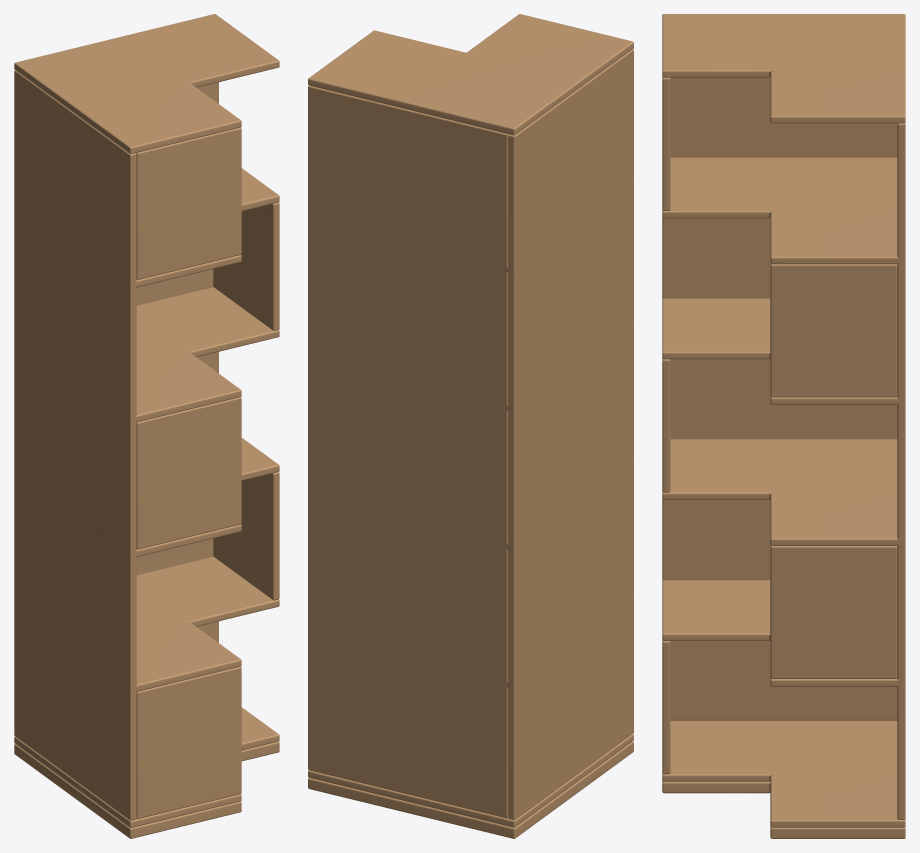
The model's file is corner-bookcase-580-v1.glb.
3 renders of one model, left to right at view 1: azimuth 30°, elevation 25°; view 2: azimuth 150°, elevation 25°; view 3: azimuth 270°, elevation 25°, orthographic. The views are drawn at different scales.
Visible parts, largest first — view 1: back-x, shelf-5, end-2, end-4, end-0, shelf-1, shelf-3, end-1, end-3, back-z, base, shelf-0 (+2 smaller); view 2: back-z, back-x, shelf-5, base, shelf-0, shelf-4; view 3: back-x, shelf-5, shelf-0, shelf-4, shelf-2, end-3, end-1, shelf-3, shelf-1, back-z, base, end-2 (+2 smaller).
Boxes of the visible parts, x1=… form: back-x: x1=14, y1=70, x2=136, y2=820; shelf-5: x1=14, y1=14, x2=279, y2=153; end-2: x1=136, y1=397, x2=241, y2=549; end-4: x1=136, y1=127, x2=241, y2=279; end-0: x1=136, y1=666, x2=241, y2=818; shelf-1: x1=14, y1=556, x2=279, y2=691; shelf-3: x1=14, y1=287, x2=279, y2=422; end-1: x1=213, y1=472, x2=279, y2=600; end-3: x1=213, y1=202, x2=279, y2=330; back-z: x1=136, y1=82, x2=218, y2=642; base: x1=14, y1=741, x2=279, y2=838; shelf-0: x1=14, y1=707, x2=279, y2=827; back-z: x1=308, y1=85, x2=508, y2=818; back-x: x1=508, y1=49, x2=633, y2=820; shelf-5: x1=308, y1=14, x2=633, y2=135; base: x1=308, y1=741, x2=633, y2=838; shelf-0: x1=308, y1=734, x2=633, y2=827; shelf-4: x1=308, y1=182, x2=633, y2=272; back-x: x1=662, y1=77, x2=897, y2=720; shelf-5: x1=662, y1=14, x2=905, y2=123; shelf-0: x1=662, y1=720, x2=905, y2=827; shelf-4: x1=662, y1=157, x2=905, y2=264; shelf-2: x1=662, y1=439, x2=898, y2=545; end-3: x1=770, y1=263, x2=897, y2=397; end-1: x1=770, y1=545, x2=897, y2=678; shelf-3: x1=662, y1=298, x2=905, y2=404; shelf-1: x1=662, y1=580, x2=905, y2=686; back-z: x1=897, y1=123, x2=905, y2=819; base: x1=662, y1=781, x2=905, y2=838; end-2: x1=662, y1=359, x2=670, y2=492.
Size of the model in its own units: 0.58 by 1.9 by 0.58.
